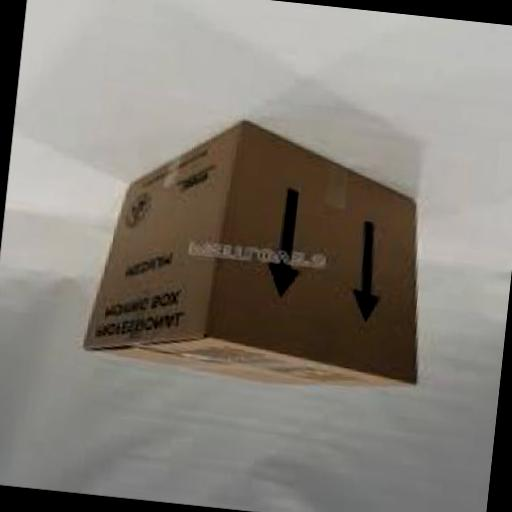cardboard: (76, 104, 438, 404)
